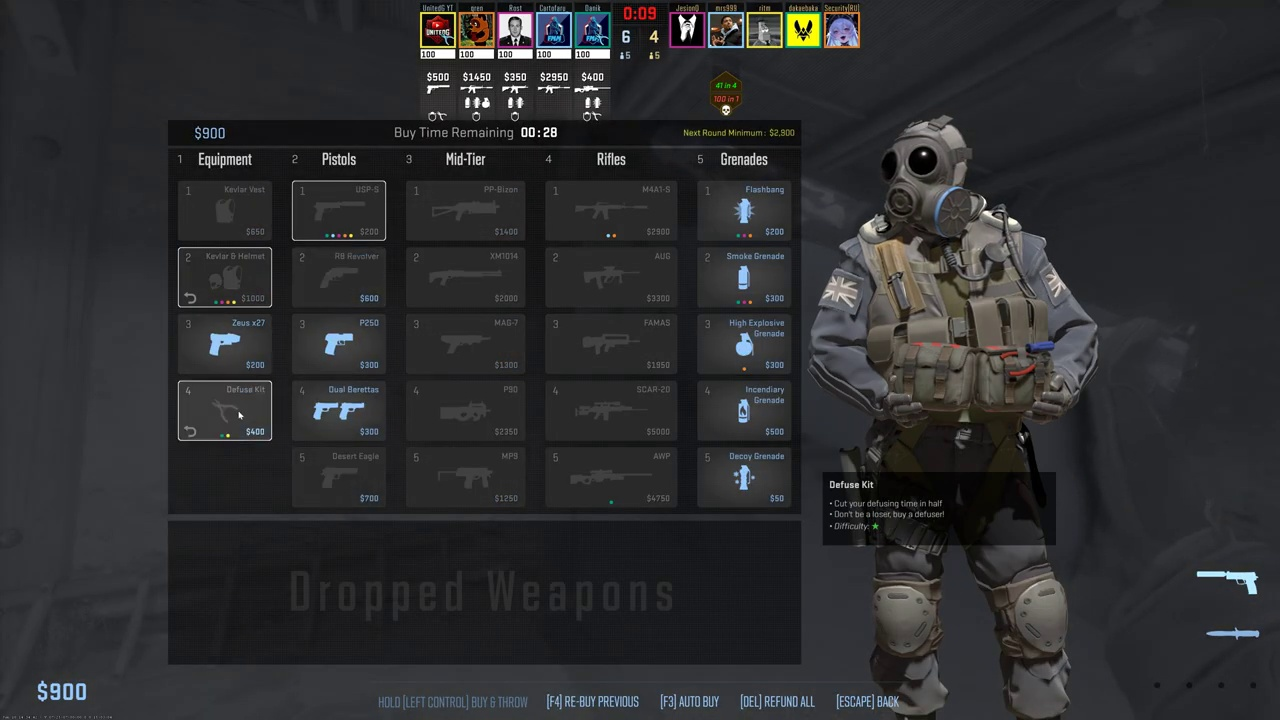CT: (854, 122, 1075, 716)
